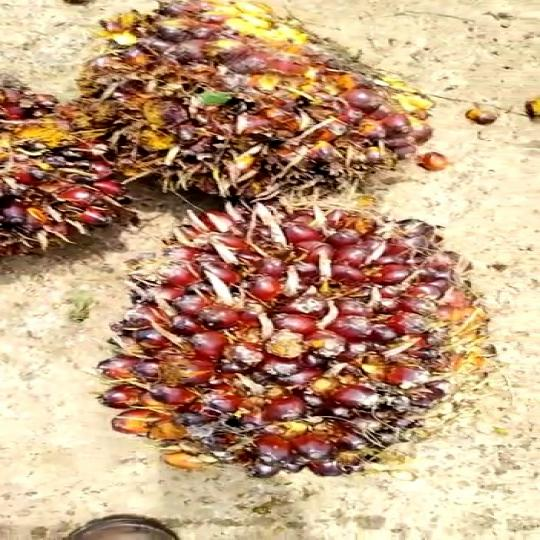masak: (84, 198, 497, 480), (55, 0, 438, 197)
